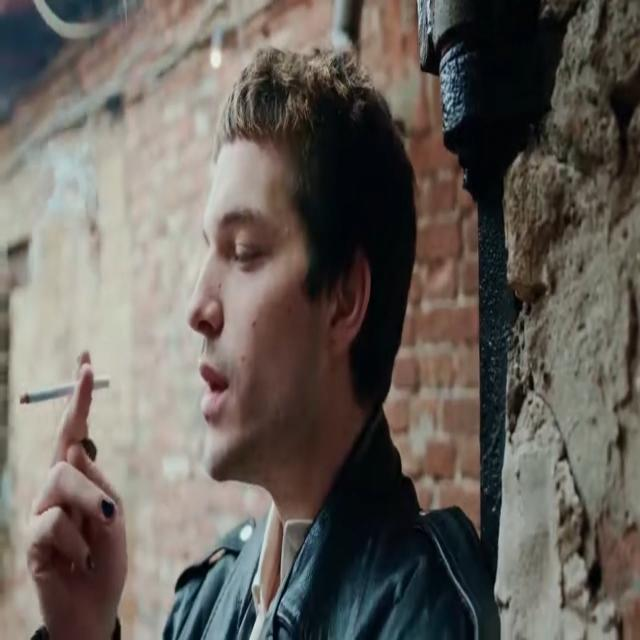Курение: (13, 369, 116, 412)
